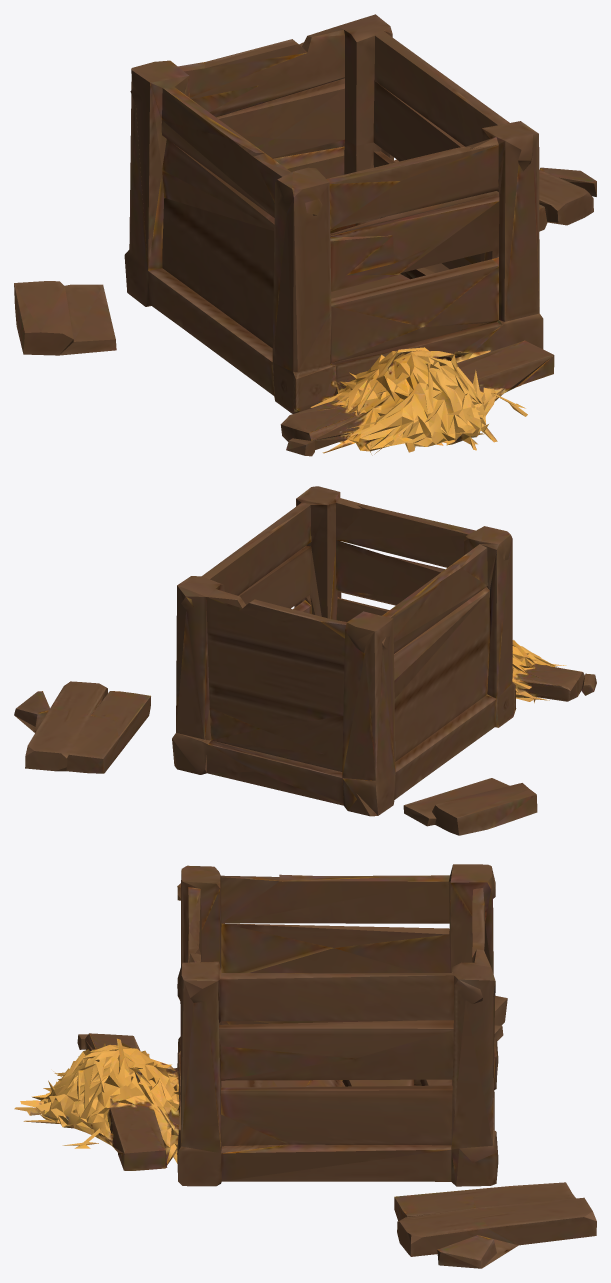
Rendered from crate-broken.glb.
The picture shows the model from 3 angles, top to bottom: view 1: azimuth 30°, elevation 25°; view 2: azimuth 150°, elevation 25°; view 3: azimuth 270°, elevation 25°; orthographic projection. The views are drawn at different scales.
Parts seen in each view (by area): view 1: output_unwrapped; view 2: output_unwrapped; view 3: output_unwrapped.
Boxes of the visible parts, x1,y1,x2,y2 form: output_unwrapped: (14,14,596,456); output_unwrapped: (14,486,596,835); output_unwrapped: (14,864,596,1268).
Size of the model in its own units: 1.9 by 0.6849 by 1.72.
1 material, 1 textured.
